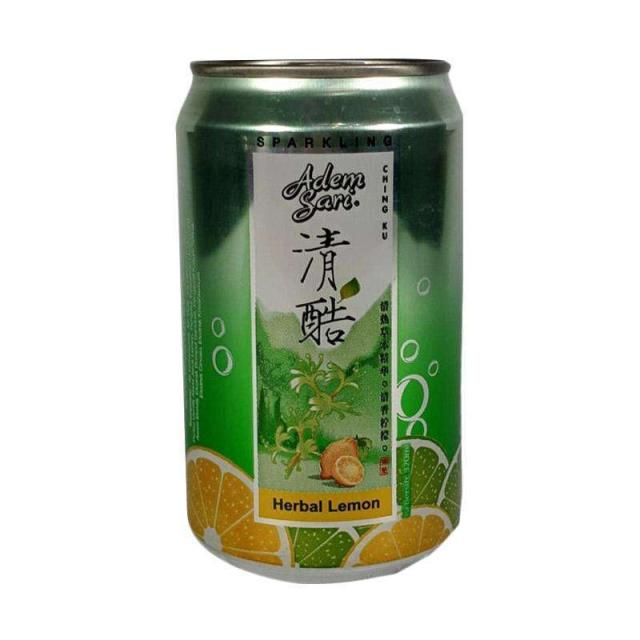ademsarikaleng: (174, 56, 465, 584)
